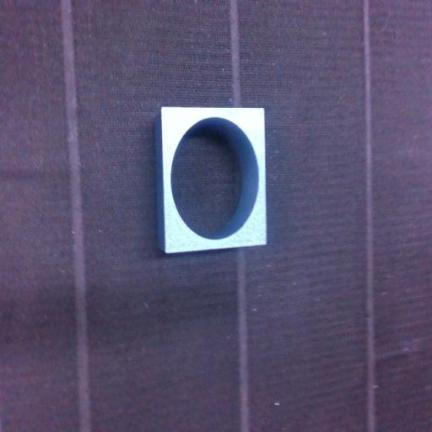square: (157, 108, 266, 253)
